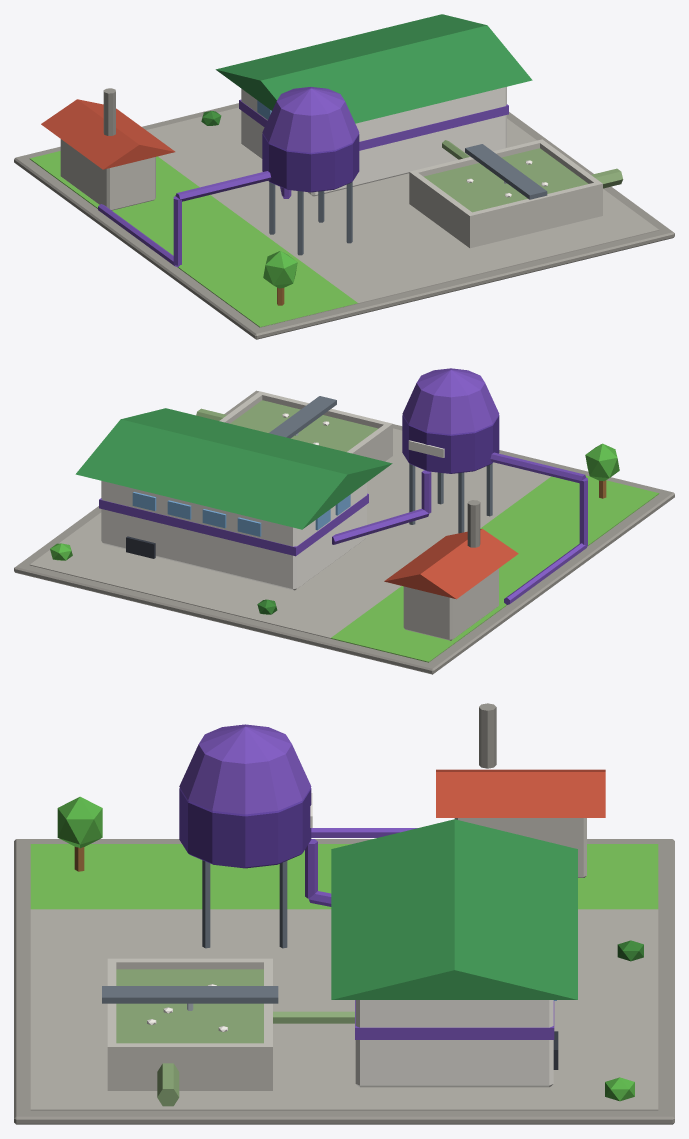
Rendered from water_reuse_plant.glb.
3 renders of one model, top to bottom at view 1: azimuth 30°, elevation 25°; view 2: azimuth 150°, elevation 25°; view 3: azimuth 270°, elevation 25°, orthographic. The views are drawn at different scales.
Visible parts, largest first — view 1: corpo; view 2: corpo; view 3: corpo.
Part boxes in pixels (x1,y1,x2,y2): corpo: (14,14,674,339); corpo: (14,368,674,674); corpo: (14,703,674,1124).
Size of the model in its own units: 6 by 2.26 by 6.
